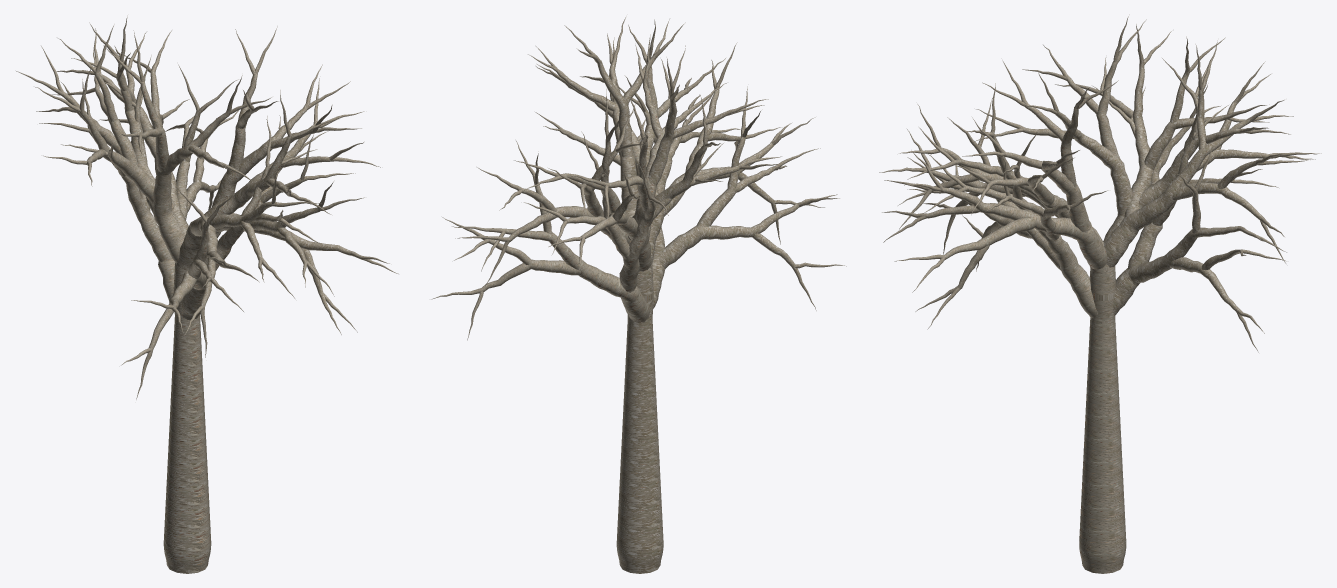
File: Platane1.fbx
The picture shows the model from 3 angles, left to right: view 1: azimuth 30°, elevation 25°; view 2: azimuth 150°, elevation 25°; view 3: azimuth 270°, elevation 25°; orthographic projection.
Visible parts, largest first — view 1: Platane1; view 2: Platane1; view 3: Platane1.
Boxes of the visible parts, x1=… form: Platane1: x1=16, y1=15, x2=398, y2=573; Platane1: x1=431, y1=16, x2=846, y2=573; Platane1: x1=879, y1=14, x2=1321, y2=573.
Bounding box in the file's own units: 4.54 × 6.14 × 8.07.
1 material, 1 textured.
